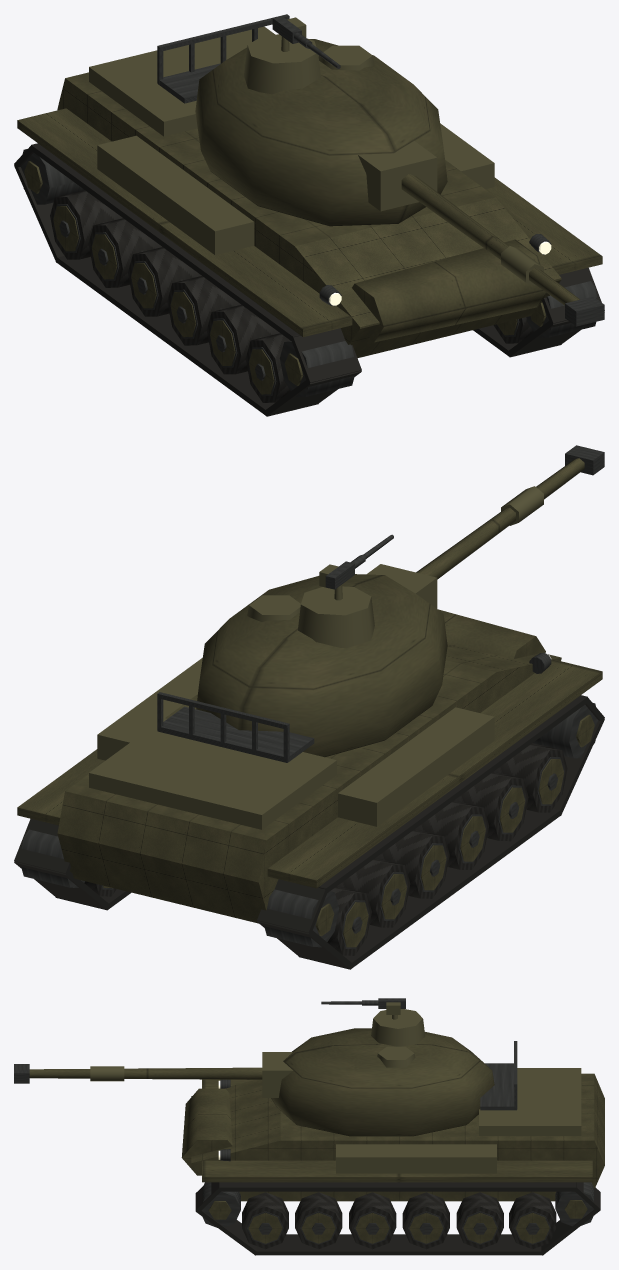
Rendered from m48a3_patton_lod2.glb.
3 views of the same model, one above another, from view 1: azimuth 30°, elevation 25°; view 2: azimuth 150°, elevation 25°; view 3: azimuth 270°, elevation 25° (orthographic). The views are drawn at different scales.
Visible parts, largest first — view 1: M48A3_Patton_MBT; view 2: M48A3_Patton_MBT; view 3: M48A3_Patton_MBT.
Part boxes in pixels (box(x1,y1,x2,y2)): M48A3_Patton_MBT: box(14, 14, 604, 416); M48A3_Patton_MBT: box(14, 445, 604, 969); M48A3_Patton_MBT: box(14, 998, 604, 1255).
Bounding box in the file's own units: 3.6 × 3.33 × 9.
Materials: 6 (3 with a texture image).
